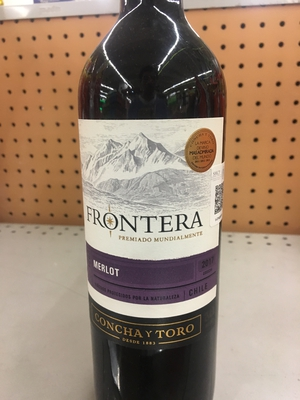frontera merlot: (70, 36, 229, 400)
